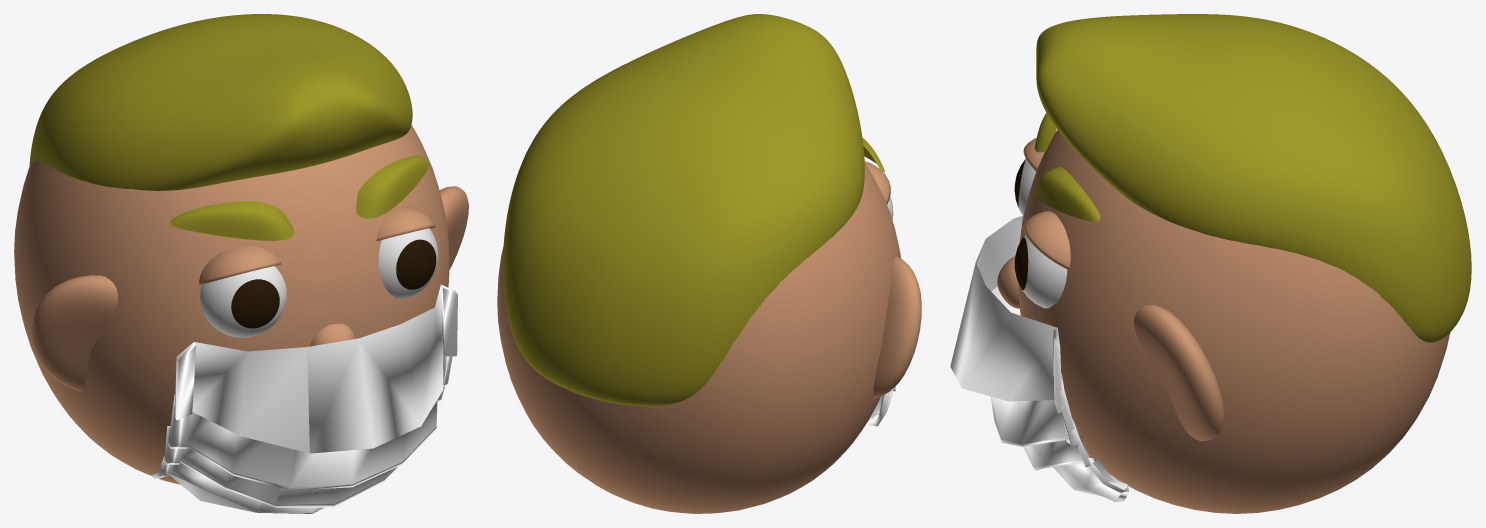
The model's file is Chef_head.fbx.
The picture shows the model from 3 angles, left to right: view 1: azimuth 30°, elevation 25°; view 2: azimuth 150°, elevation 25°; view 3: azimuth 270°, elevation 25°; orthographic projection. The views are drawn at different scales.
Parts seen in each view (by area): view 1: Cube.014, Cube.017, Plane, Cube.007, Sphere.002, Cube.016, Sphere, Cube.001; view 2: Cube.017, Cube.014, Cube.007; view 3: Cube.017, Cube.014, Plane, Cube.007, Sphere.002, Cube.016, Sphere, Cube.001.
Boxes of the visible parts, bbox=[...] form: Cube.014: bbox=[14, 124, 449, 484]; Cube.017: bbox=[29, 14, 412, 190]; Plane: bbox=[152, 284, 457, 513]; Cube.007: bbox=[31, 186, 468, 391]; Sphere.002: bbox=[200, 228, 438, 337]; Cube.016: bbox=[169, 155, 429, 240]; Sphere: bbox=[199, 206, 435, 285]; Cube.001: bbox=[310, 323, 355, 346]; Cube.017: bbox=[503, 14, 864, 406]; Cube.014: bbox=[497, 163, 900, 513]; Cube.007: bbox=[873, 256, 921, 398]; Cube.017: bbox=[1036, 14, 1471, 342]; Cube.014: bbox=[1018, 130, 1449, 513]; Plane: bbox=[950, 216, 1128, 501]; Cube.007: bbox=[1134, 305, 1223, 440]; Sphere.002: bbox=[1014, 159, 1067, 308]; Cube.016: bbox=[1034, 113, 1100, 221]; Sphere: bbox=[1023, 138, 1070, 269]; Cube.001: bbox=[997, 256, 1019, 308].
Bounding box in the file's own units: 153 × 154 × 157.
